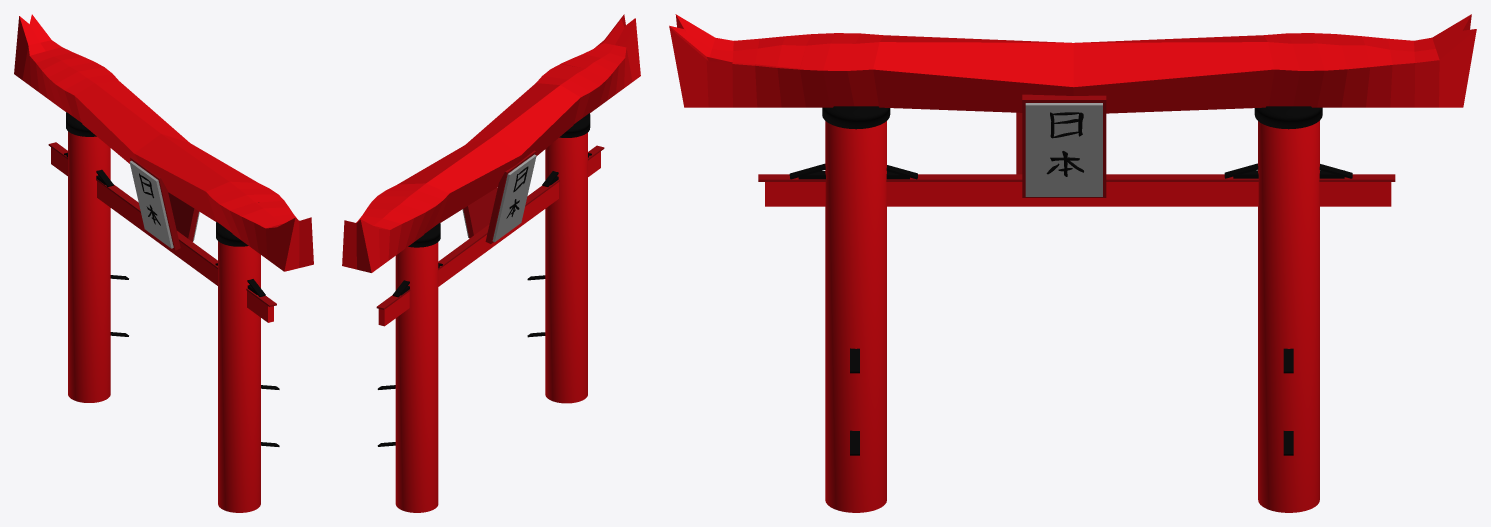
File: gate.glb
The picture shows the model from 3 angles, left to right: view 1: azimuth 30°, elevation 25°; view 2: azimuth 150°, elevation 25°; view 3: azimuth 270°, elevation 25°; orthographic projection. The views are drawn at different scales.
Parts seen in each view (by area): view 1: Cube.069_105, Cylinder.015_110, Cylinder.014_111, Cube.077_97, Cube.066_108, Cube.076_98, Cube.068_106, Cube.065_109, Cylinder.008_113, Cylinder.009_112; view 2: Cube.069_105, Cylinder.014_111, Cylinder.015_110, Cube.077_97, Cube.066_108, Cube.076_98, Cube.068_106, Cube.065_109, Cylinder.009_112, Cylinder.008_113; view 3: Cube.069_105, Cylinder.014_111, Cylinder.015_110, Cube.077_97, Cube.067_107, Cube.076_98, Cube.068_106, Cylinder.008_113, Cylinder.009_112.
Part boxes in pixels (x1=…): Cube.069_105: x1=14, y1=14, x2=313, y2=271; Cylinder.015_110: x1=218, y1=241, x2=260, y2=512; Cylinder.014_111: x1=68, y1=131, x2=110, y2=402; Cube.077_97: x1=51, y1=147, x2=273, y2=322; Cube.066_108: x1=129, y1=160, x2=173, y2=248; Cube.076_98: x1=48, y1=142, x2=276, y2=306; Cube.068_106: x1=168, y1=192, x2=198, y2=241; Cube.065_109: x1=130, y1=157, x2=180, y2=250; Cylinder.008_113: x1=216, y1=221, x2=248, y2=246; Cylinder.009_112: x1=66, y1=112, x2=96, y2=136; Cube.069_105: x1=342, y1=14, x2=640, y2=272; Cylinder.014_111: x1=395, y1=242, x2=438, y2=512; Cylinder.015_110: x1=545, y1=132, x2=587, y2=403; Cube.077_97: x1=378, y1=151, x2=600, y2=326; Cube.066_108: x1=492, y1=154, x2=536, y2=242; Cube.076_98: x1=376, y1=145, x2=604, y2=309; Cube.068_106: x1=463, y1=187, x2=497, y2=238; Cube.065_109: x1=485, y1=150, x2=535, y2=243; Cylinder.009_112: x1=408, y1=223, x2=440, y2=247; Cylinder.008_113: x1=559, y1=113, x2=590, y2=137; Cube.069_105: x1=669, y1=14, x2=1476, y2=113; Cylinder.014_111: x1=1258, y1=120, x2=1319, y2=512; Cylinder.015_110: x1=825, y1=121, x2=886, y2=512; Cube.077_97: x1=765, y1=182, x2=1391, y2=206; Cube.067_107: x1=1025, y1=103, x2=1102, y2=196; Cube.076_98: x1=758, y1=174, x2=1395, y2=181; Cube.068_106: x1=1022, y1=94, x2=1106, y2=197; Cylinder.008_113: x1=822, y1=106, x2=890, y2=129; Cylinder.009_112: x1=1254, y1=106, x2=1322, y2=129.
Bounding box in the file's own units: 1.83 × 8.59 × 13.06.
